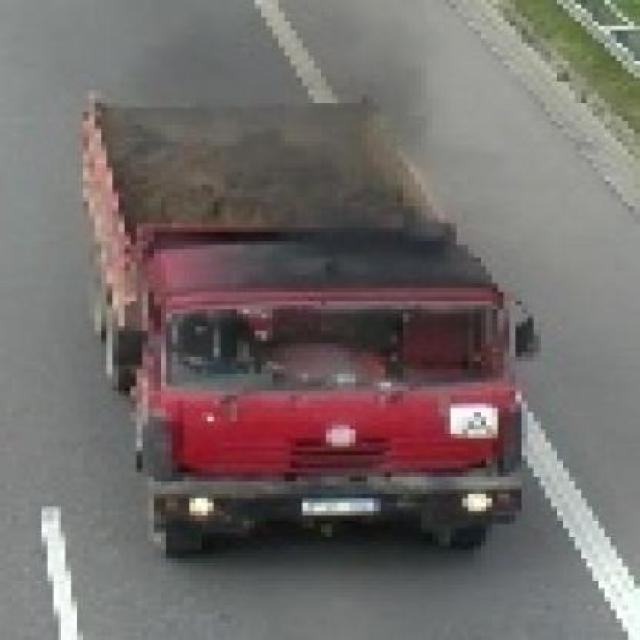truck: (72, 91, 529, 563)
